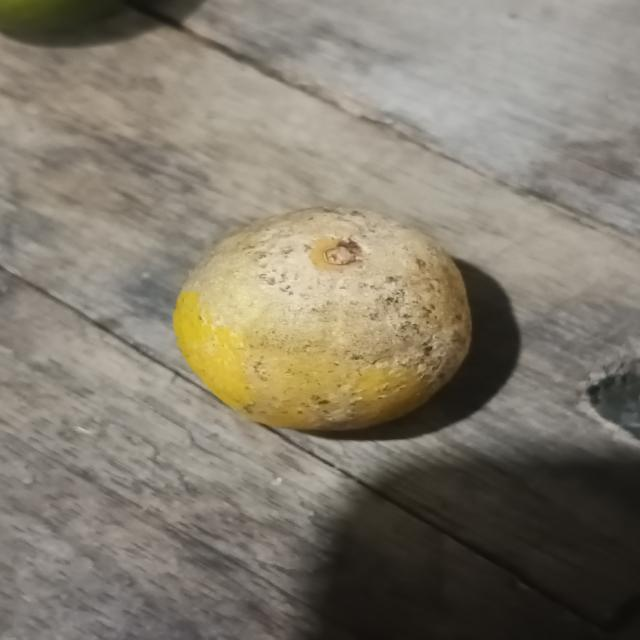thrips: (176, 204, 475, 430)
